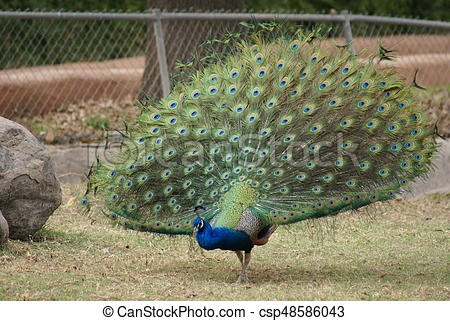pavoreal: (188, 196, 272, 262)
